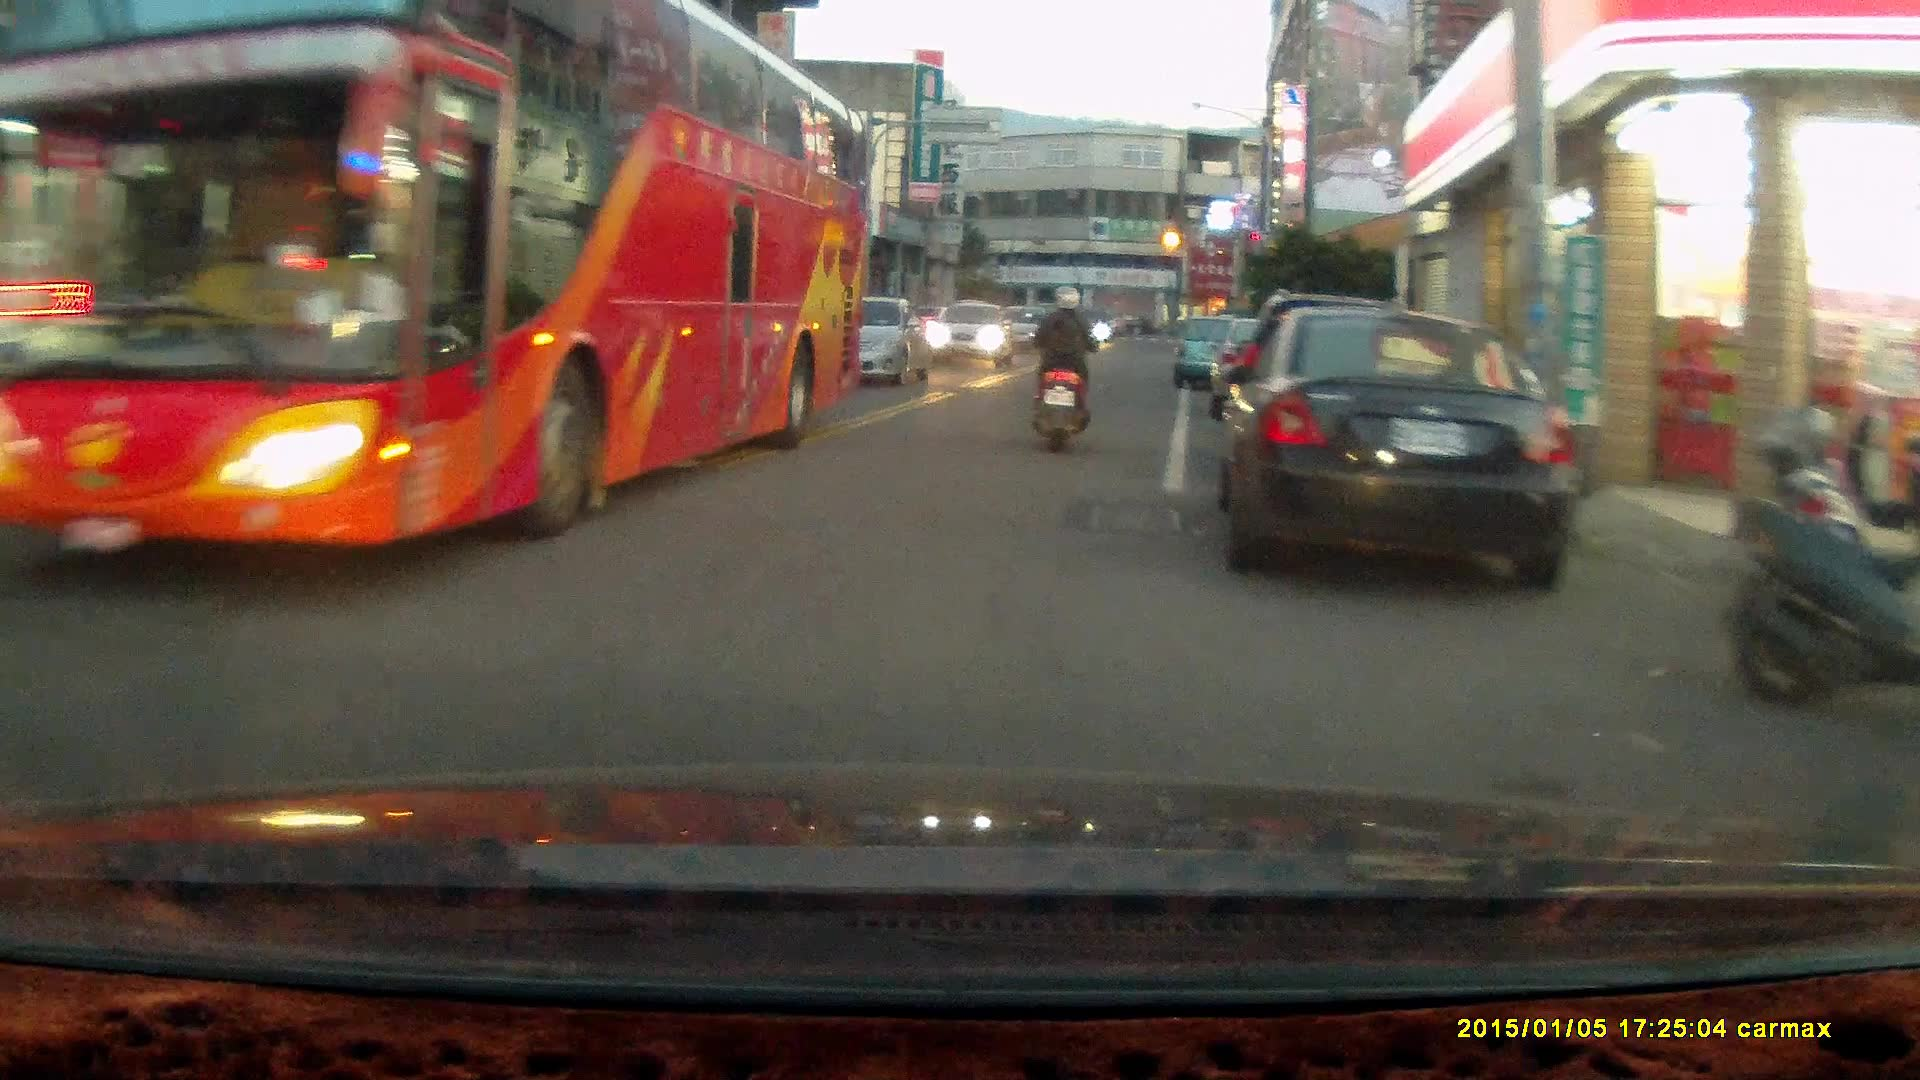rider: (1025, 283, 1099, 454)
vehicle: (19, 16, 871, 561), (1203, 302, 1578, 589), (809, 293, 925, 389), (927, 299, 1014, 366), (1175, 316, 1256, 389)
